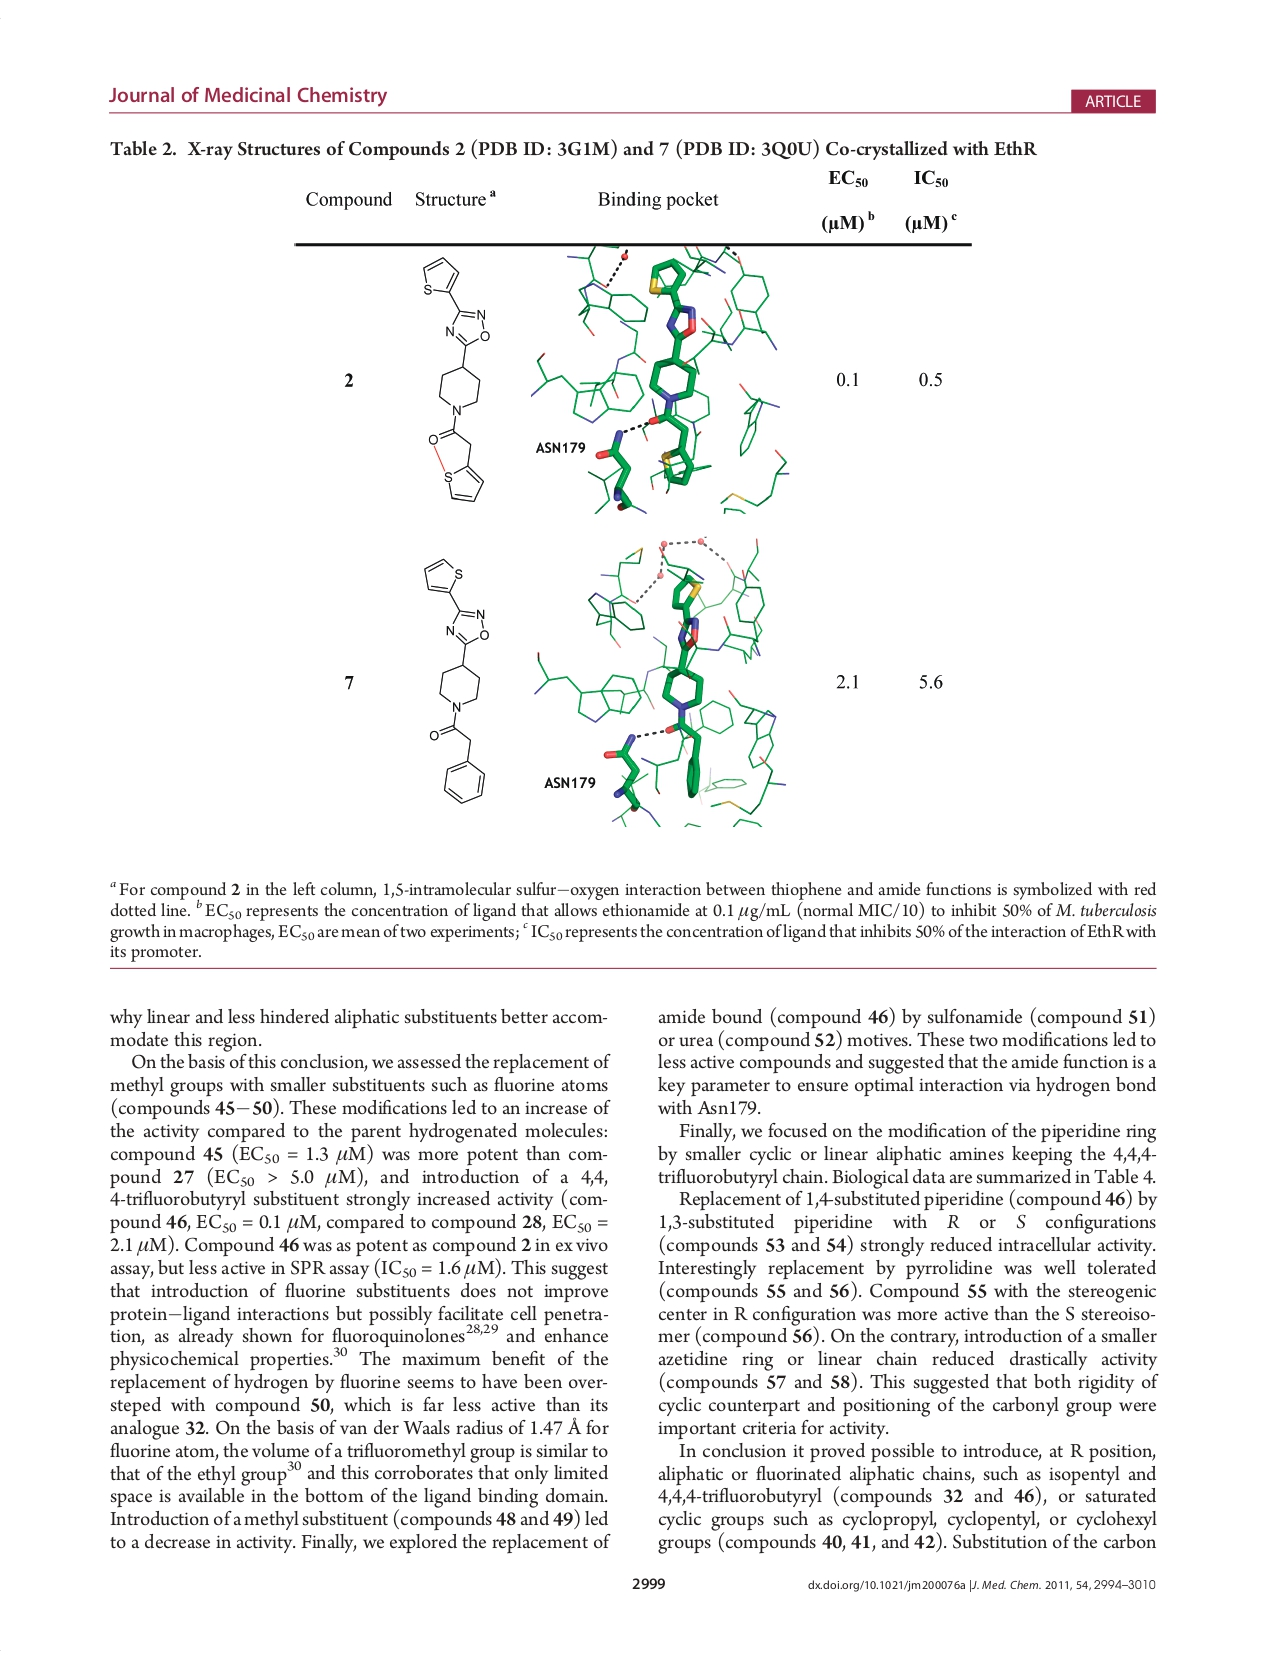exist_molecular: (415, 553, 496, 810), (416, 251, 495, 505)
